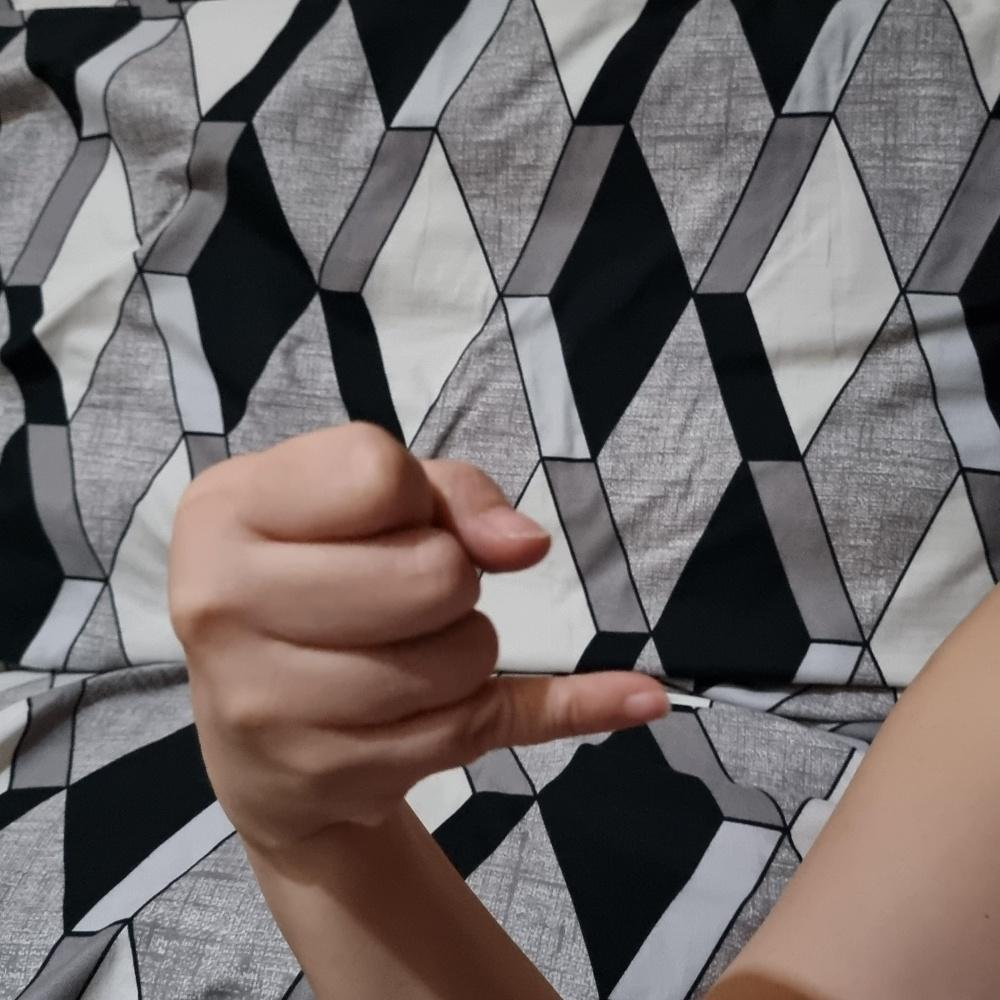j: (158, 412, 676, 833)
